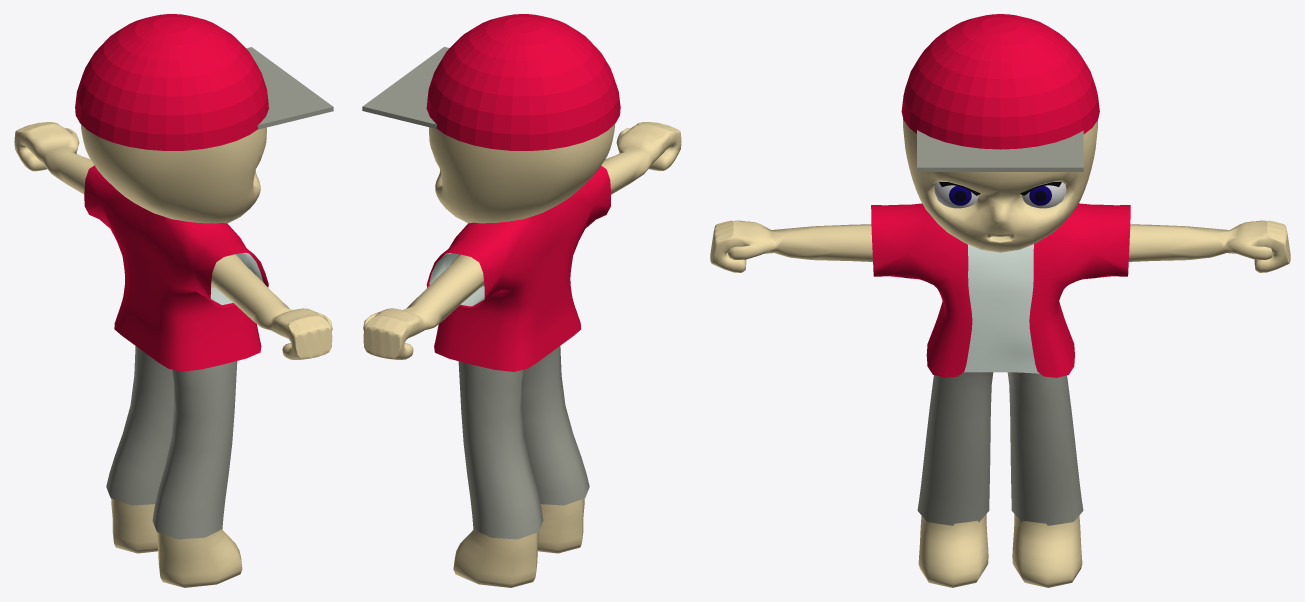
Rendered from NPC2.fbx.
3 views of the same model, side by side, from view 1: azimuth 30°, elevation 25°; view 2: azimuth 150°, elevation 25°; view 3: azimuth 270°, elevation 25° (orthographic).
Parts seen in each view (by area): view 1: Sphere, SHIRT, Body.002, Body, Head; view 2: Sphere, SHIRT, Body.002, Body, Head; view 3: SHIRT, Sphere, Body, Body.002, Head, Eyeball.
Part boxes in pixels (left/top/right/bottom): Sphere: left=75, top=14, right=333, bottom=150; SHIRT: left=84, top=165, right=268, bottom=371; Body.002: left=106, top=346, right=237, bottom=539; Body: left=14, top=122, right=332, bottom=587; Head: left=81, top=124, right=266, bottom=223; Sphere: left=362, top=14, right=620, bottom=150; SHIRT: left=426, top=165, right=611, bottom=371; Body.002: left=458, top=346, right=589, bottom=539; Body: left=363, top=122, right=681, bottom=587; Head: left=429, top=124, right=614, bottom=223; SHIRT: left=871, top=203, right=1130, bottom=377; Sphere: left=901, top=14, right=1099, bottom=171; Body: left=710, top=220, right=1290, bottom=587; Body.002: left=917, top=372, right=1083, bottom=525; Head: left=903, top=118, right=1097, bottom=252; Eyeball: left=934, top=182, right=1066, bottom=208.
Size of the model in its own units: 91.4 by 229 by 221.
